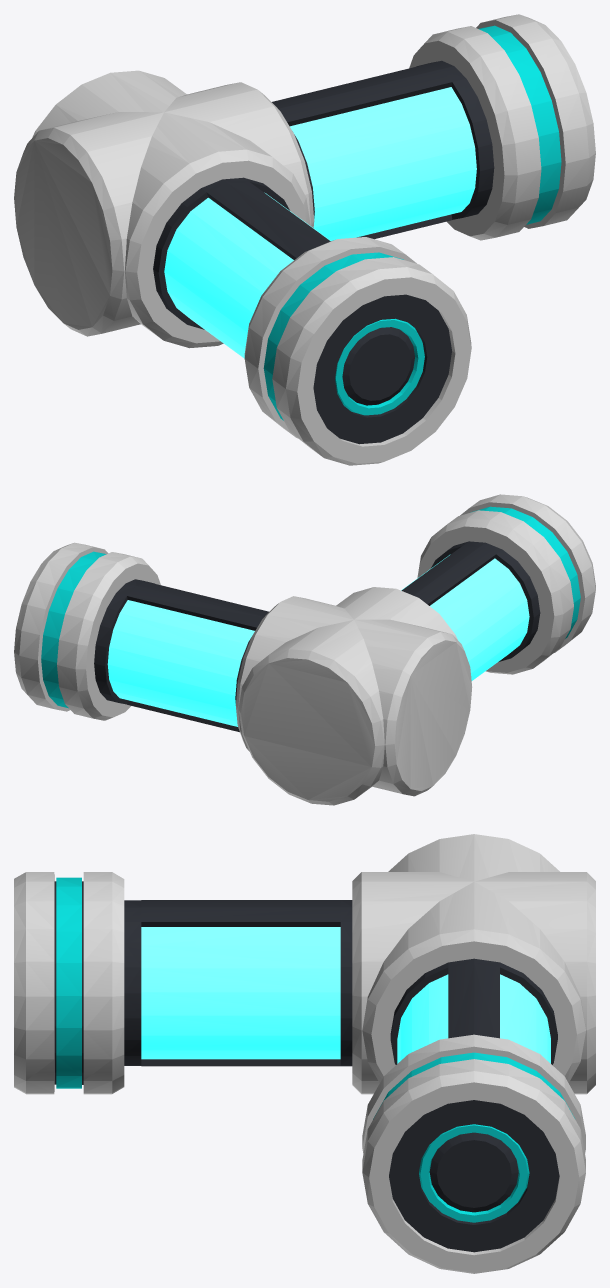
The model's file is SM_Cable_Large_Corner.fbx.
3 renders of one model, top to bottom at view 1: azimuth 30°, elevation 25°; view 2: azimuth 150°, elevation 25°; view 3: azimuth 270°, elevation 25°, orthographic. The views are drawn at different scales.
Parts seen in each view (by area): view 1: SM_Cable_Large_Corner; view 2: SM_Cable_Large_Corner; view 3: SM_Cable_Large_Corner.
Part boxes in pixels (left/top/right/bottom): SM_Cable_Large_Corner: left=14, top=14, right=595, bottom=465; SM_Cable_Large_Corner: left=14, top=494, right=595, bottom=805; SM_Cable_Large_Corner: left=14, top=834, right=595, bottom=1273.
Bounding box in the file's own units: 63.23 × 24.32 × 63.23.
